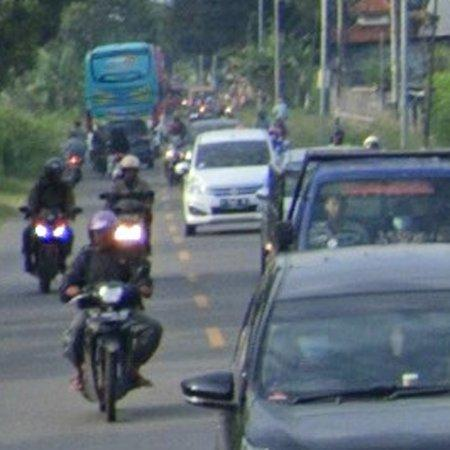motorcycles: (77, 282, 135, 422)
